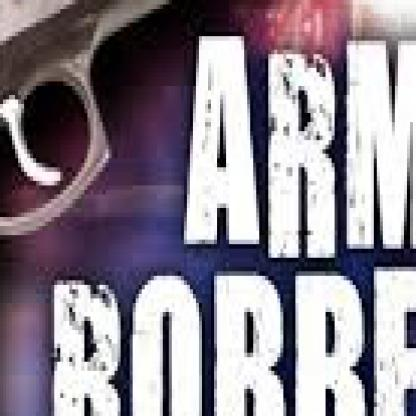gun: (0, 0, 275, 412)
